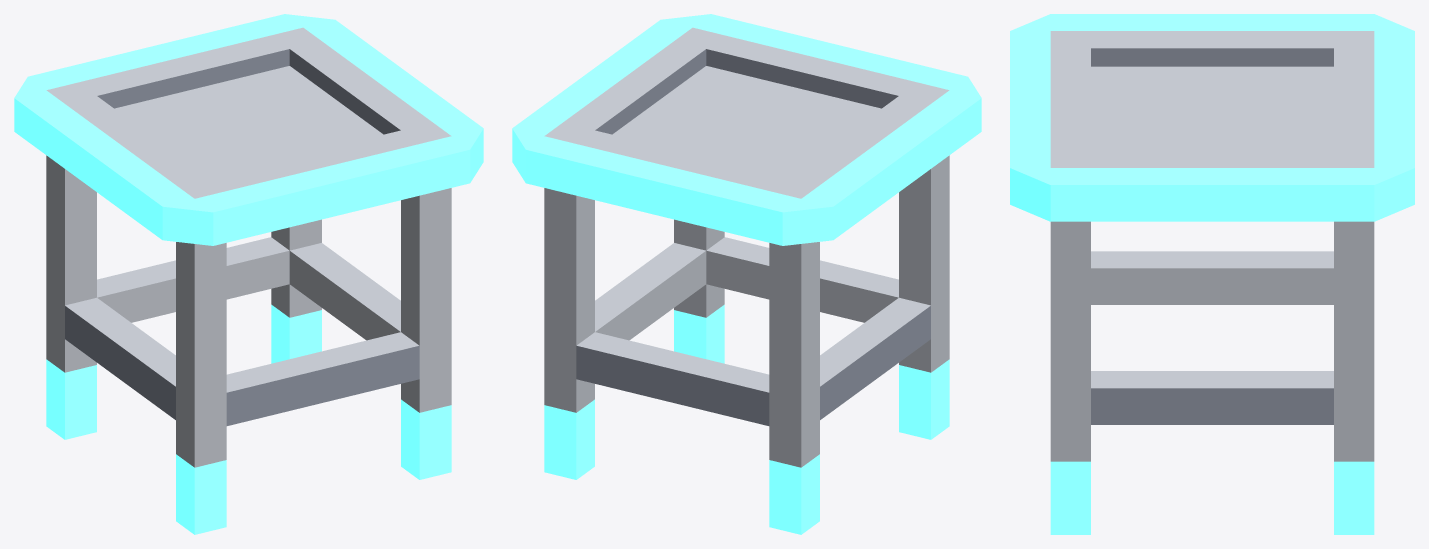
The model's file is platform_high.glb.
The picture shows the model from 3 angles, left to right: view 1: azimuth 30°, elevation 25°; view 2: azimuth 150°, elevation 25°; view 3: azimuth 270°, elevation 25°; orthographic projection. The views are drawn at different scales.
Visible parts, largest first — view 1: platform_high; view 2: platform_high; view 3: platform_high.
Boxes of the visible parts, x1,y1,x2,y2 form: platform_high: (14,14,483,534); platform_high: (512,14,981,534); platform_high: (1010,14,1414,534).
Bounding box in the file's own units: 1 × 1 × 1.
